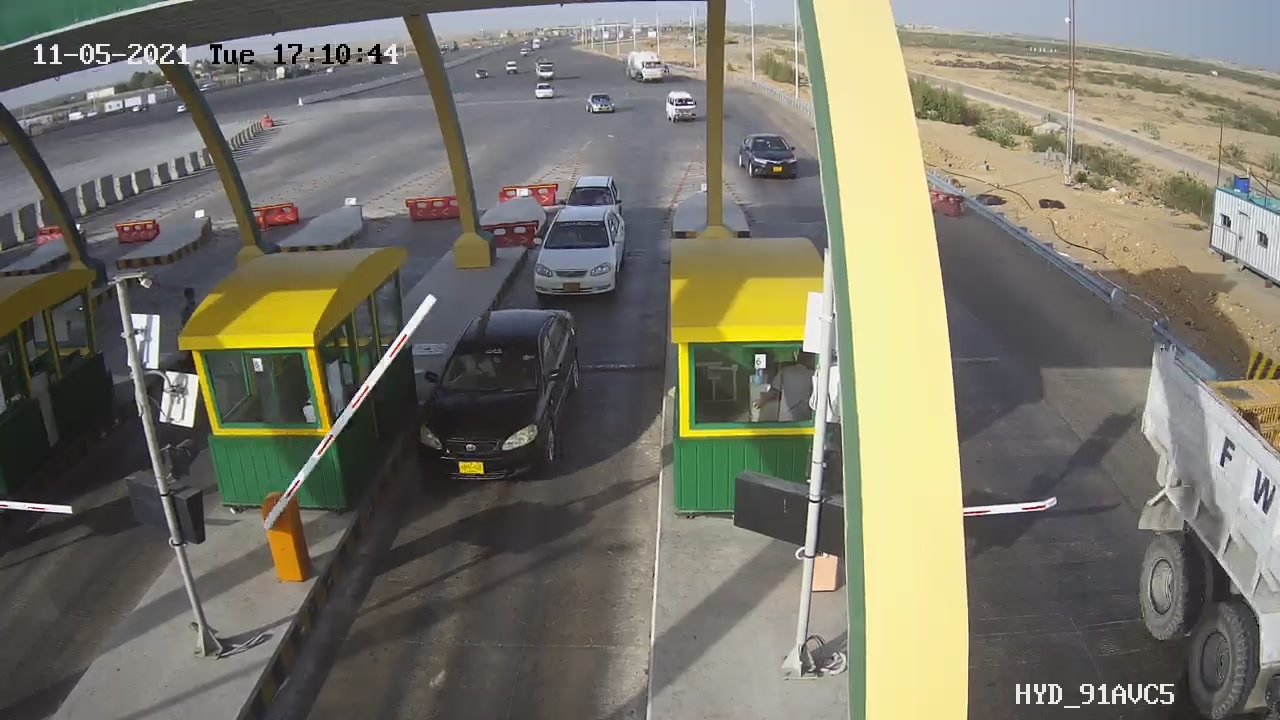F1: (408, 296, 599, 495), (517, 191, 643, 312)
